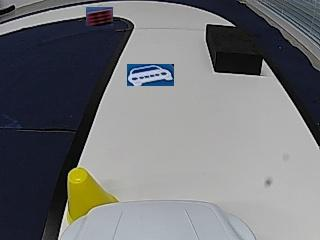block: (205, 24, 263, 74)
cone: (66, 168, 118, 205)
